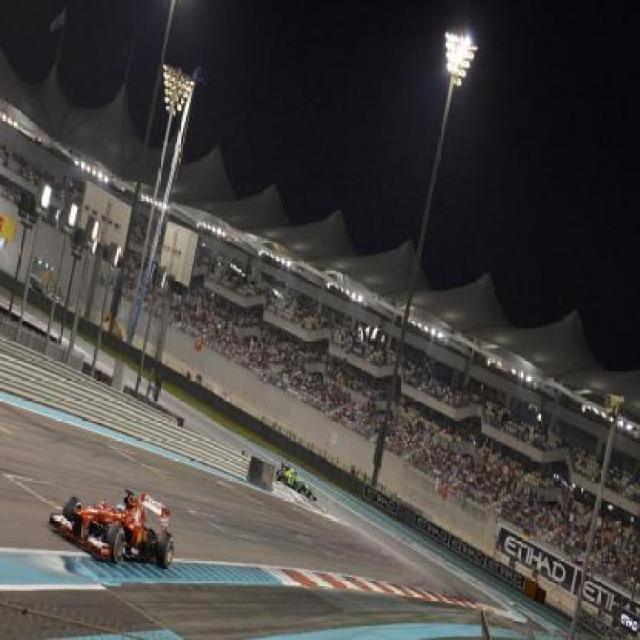truck: (50, 492, 175, 566), (279, 462, 316, 496)
